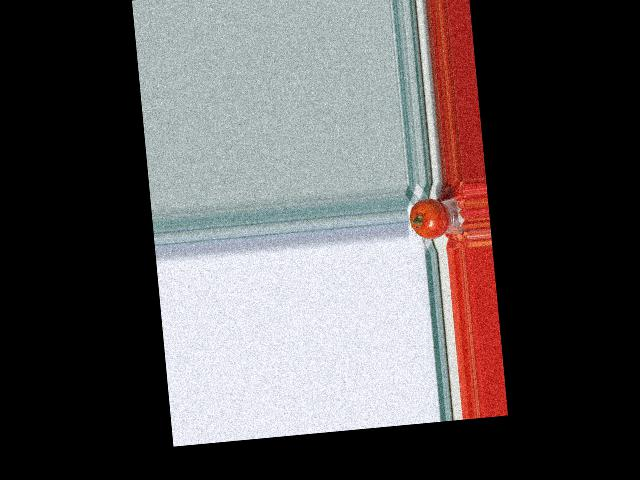tomato: (408, 196, 450, 241)
